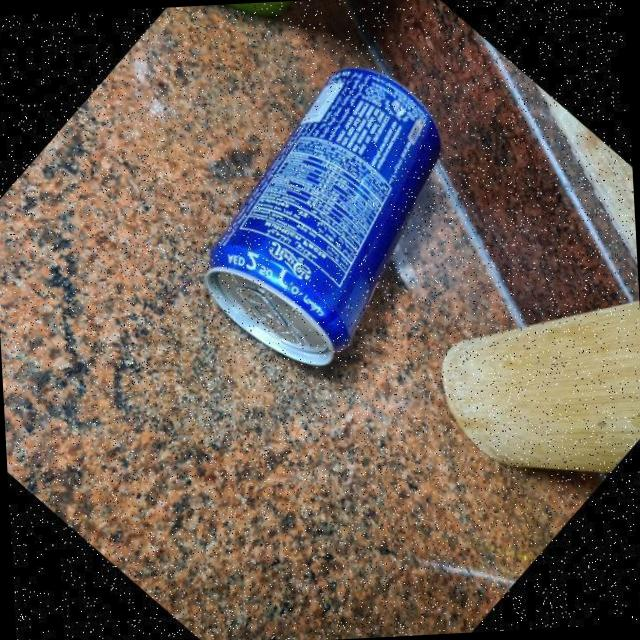Kaleng: (193, 64, 453, 374)
